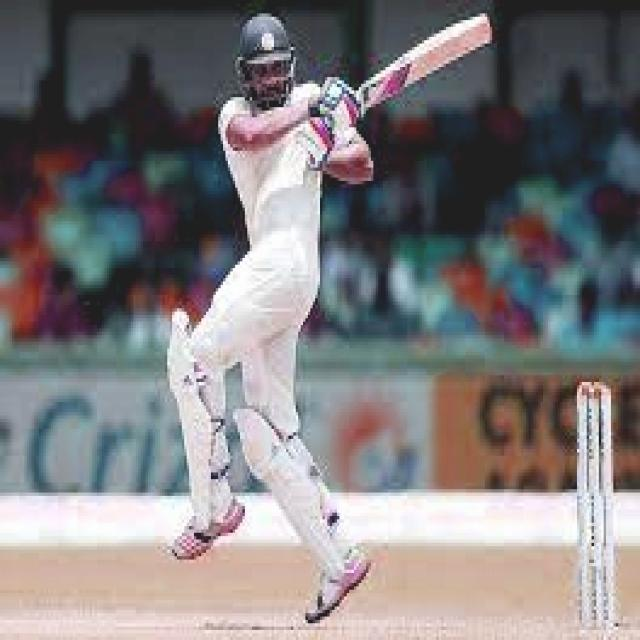toe: (475, 2, 496, 54)
